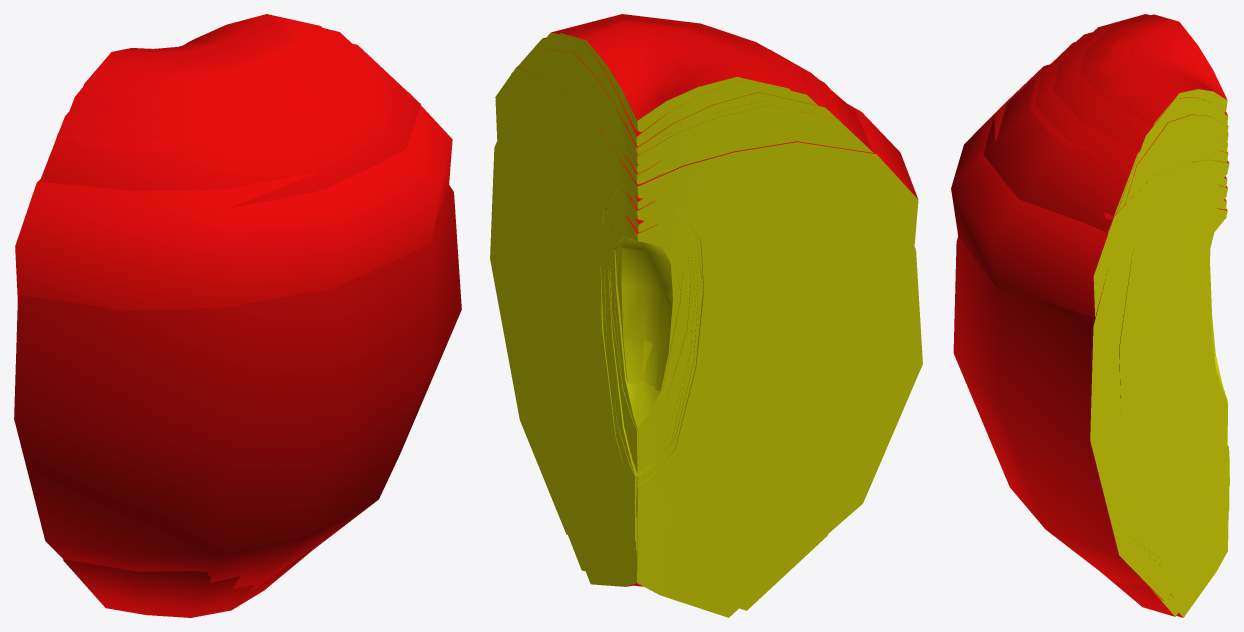
Rendered from apples_slices_mesh_grp.fbx.
The picture shows the model from 3 angles, left to right: view 1: azimuth 30°, elevation 25°; view 2: azimuth 150°, elevation 25°; view 3: azimuth 270°, elevation 25°; orthographic projection. The views are drawn at different scales.
Parts seen in each view (by area): view 1: apple_slice_b15, apple_slice_a15, apple_slice_a6, apple_slice_b10, apple_slice_b1, apple_slice_a4, apple_slice_a3; view 2: apple_slice_a15, apple_slice_b15, apple_slice_b1, apple_slice_a3, apple_slice_b5, apple_slice_b14, apple_slice_b10, apple_slice_a9, apple_slice_a4, apple_slice_b3, apple_slice_a11, apple_slice_a6 (+7 smaller); view 3: apple_slice_b15, apple_slice_a15, apple_slice_a6, apple_slice_b1, apple_slice_b5, apple_slice_b10, apple_slice_a3, apple_slice_b3, apple_slice_a4, apple_slice_a11, apple_slice_b8, apple_slice_a8 (+4 smaller).
Boxes of the visible parts, x1,y1,x2,y2 form: apple_slice_b15: [14, 185, 461, 591]; apple_slice_a15: [15, 92, 452, 311]; apple_slice_a6: [39, 43, 420, 207]; apple_slice_b10: [69, 17, 351, 117]; apple_slice_b1: [83, 14, 322, 90]; apple_slice_a4: [63, 547, 315, 617]; apple_slice_a3: [56, 57, 372, 152]; apple_slice_a15: [495, 66, 918, 548]; apple_slice_b15: [490, 107, 922, 543]; apple_slice_b1: [560, 16, 790, 465]; apple_slice_a3: [527, 45, 865, 504]; apple_slice_b5: [521, 171, 671, 505]; apple_slice_b14: [615, 217, 680, 390]; apple_slice_b10: [509, 14, 818, 557]; apple_slice_a9: [572, 100, 829, 589]; apple_slice_a4: [568, 152, 893, 610]; apple_slice_b3: [528, 49, 673, 552]; apple_slice_a11: [521, 126, 738, 617]; apple_slice_a6: [511, 37, 893, 387]; apple_slice_b15: [953, 150, 1229, 600]; apple_slice_a15: [951, 64, 1229, 485]; apple_slice_a6: [983, 32, 1222, 233]; apple_slice_b1: [1080, 14, 1227, 437]; apple_slice_b5: [1120, 151, 1229, 557]; apple_slice_b10: [1053, 14, 1228, 538]; apple_slice_a3: [1029, 42, 1228, 532]; apple_slice_b3: [1124, 114, 1228, 596]; apple_slice_a4: [1102, 148, 1228, 616]; apple_slice_a11: [1119, 158, 1227, 617]; apple_slice_b8: [1140, 485, 1229, 566]; apple_slice_a8: [1200, 123, 1227, 432].
Size of the model in its own units: 11.07 by 13.52 by 6.34.
